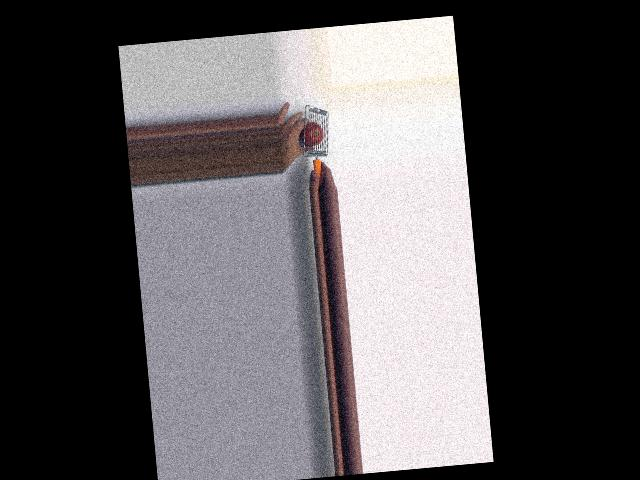tomato: (299, 121, 324, 147)
